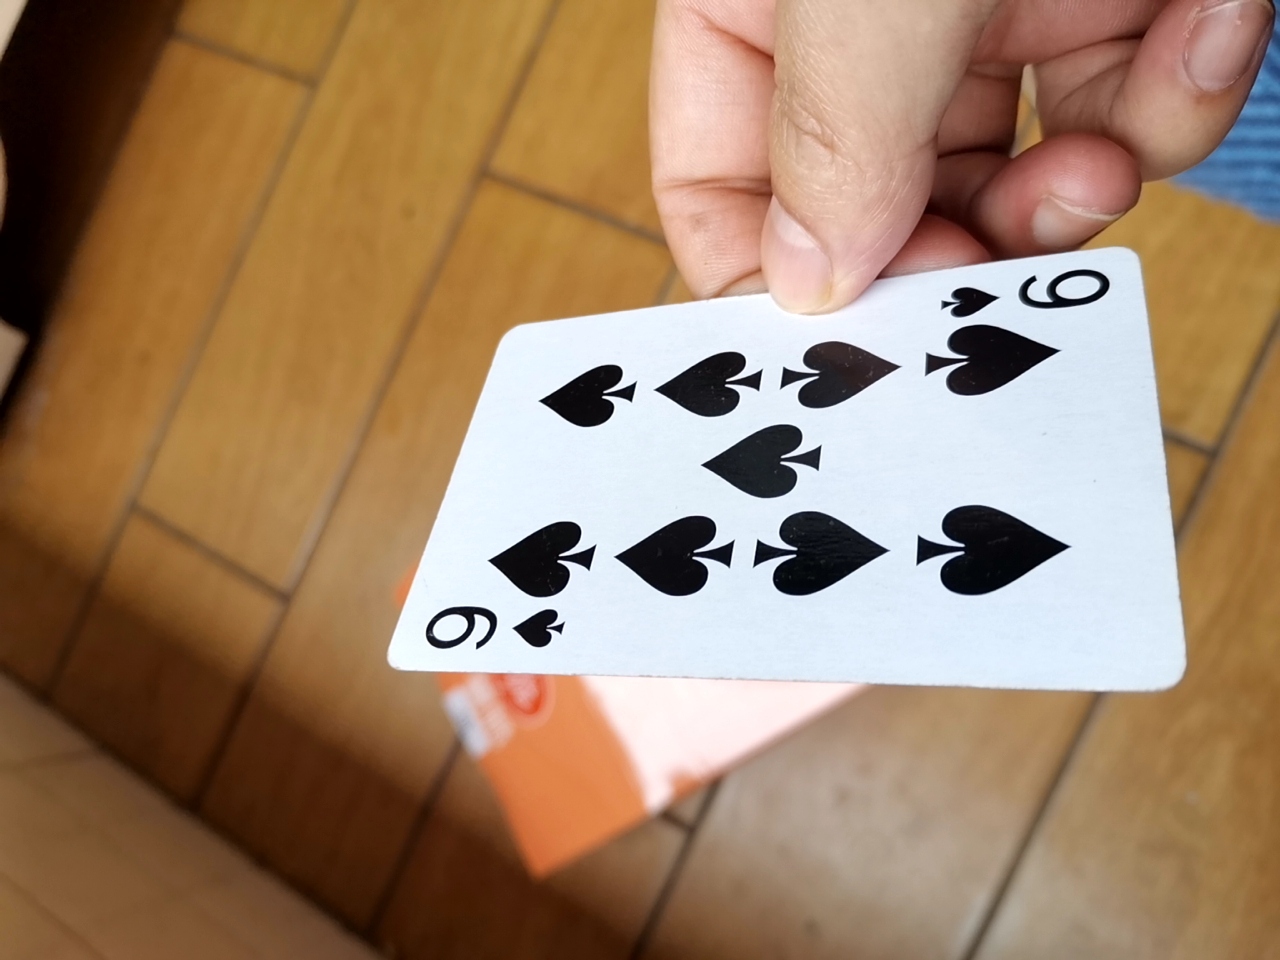ht 9: (375, 243, 1203, 717)
